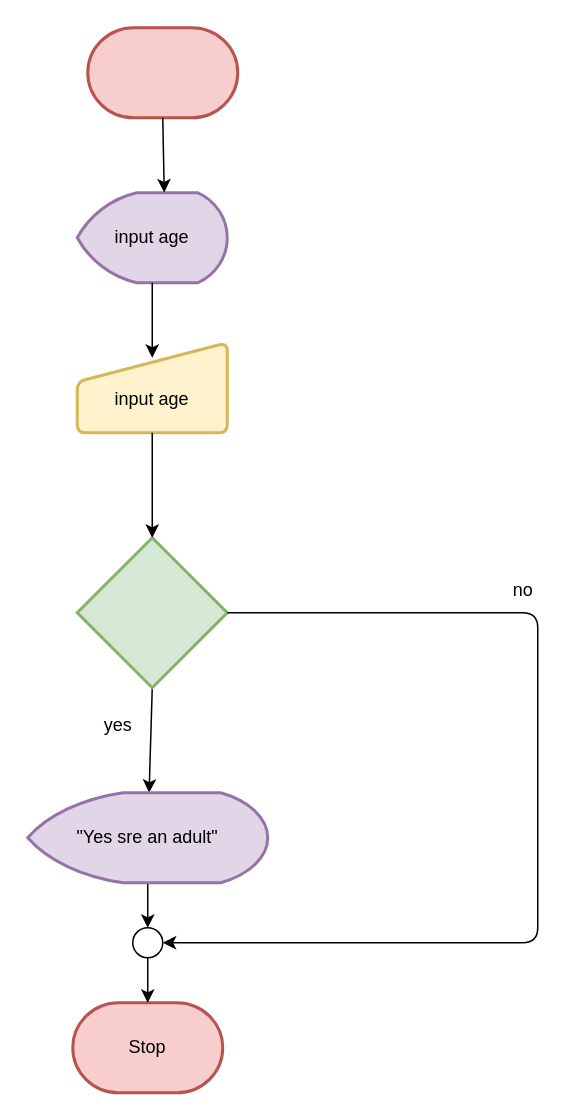
Image size: 578x1119. Some labels were removed from this diagram. Here are the shapes that lost their labels. From the top down, the centre of each, then its label:
At (162,72): "Start".
At (151,612): "age>= 18?".
